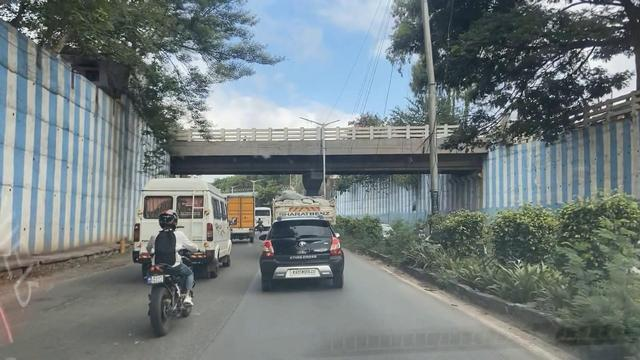HMV: (124, 170, 231, 278), (224, 195, 254, 240)
LMV: (128, 198, 195, 352), (261, 217, 345, 291)
